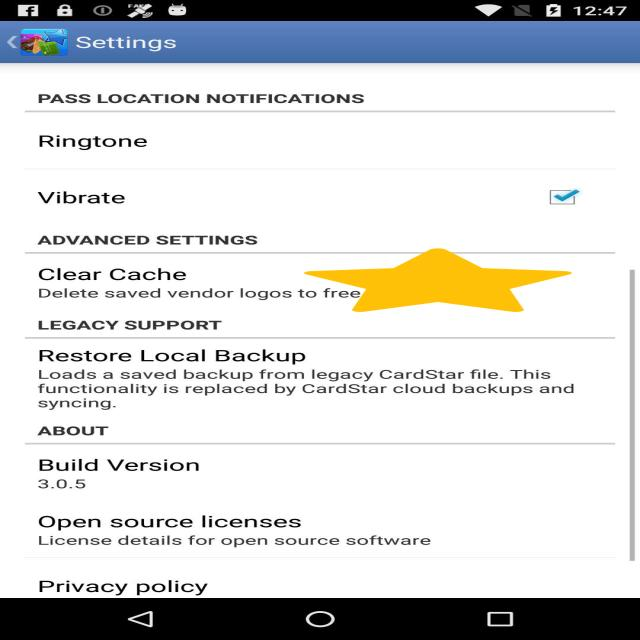forced continuity: (304, 248, 572, 312)
